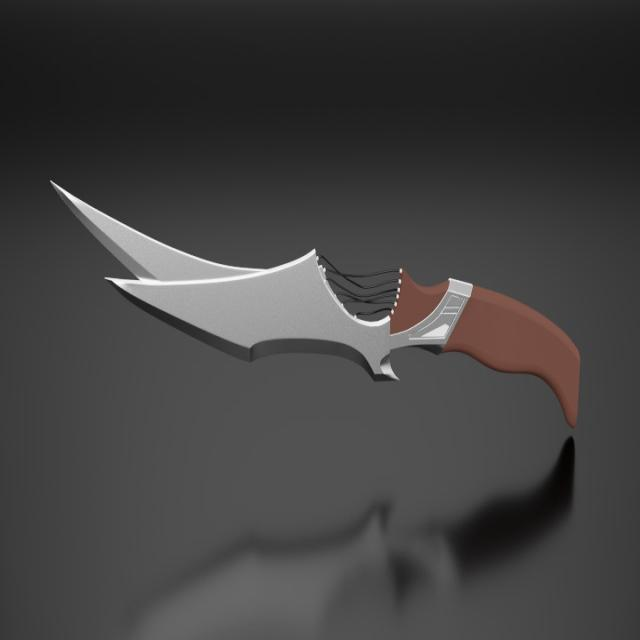Gun: (27, 155, 586, 503)
